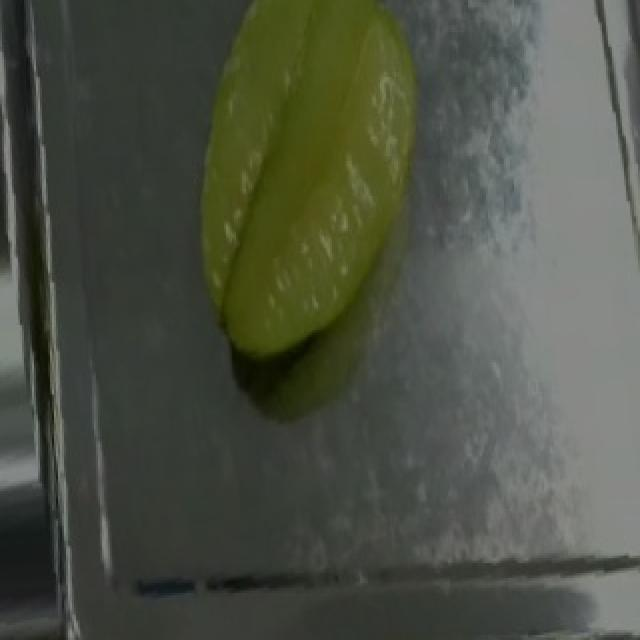fruit: (182, 2, 454, 352)
